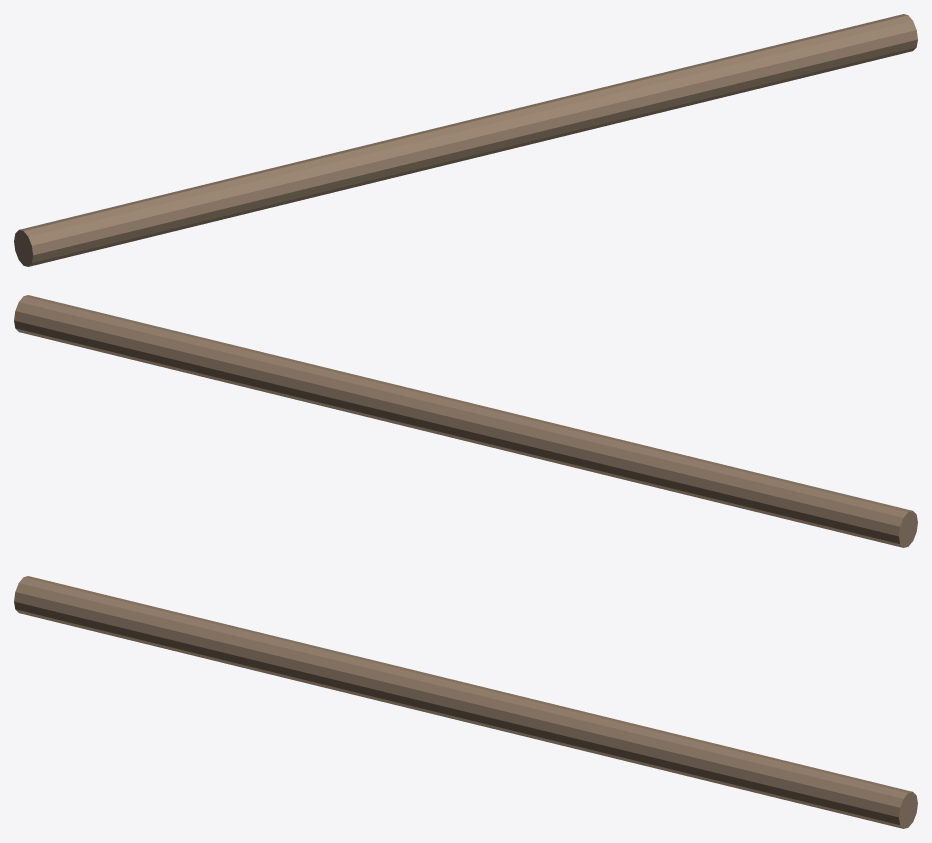
Rendered from VH-DRAWBAR.glb.
The picture shows the model from 3 angles, top to bottom: view 1: azimuth 30°, elevation 25°; view 2: azimuth 150°, elevation 25°; view 3: azimuth 330°, elevation 25°; orthographic projection.
Visible parts, largest first — view 1: beam; view 2: beam; view 3: beam.
Boxes of the visible parts, x1,y1,x2,y2 form: beam: (14,14,917,266); beam: (14,295,917,547); beam: (14,576,917,828).
Size of the model in its own units: 2.4 by 0.09 by 0.09.
